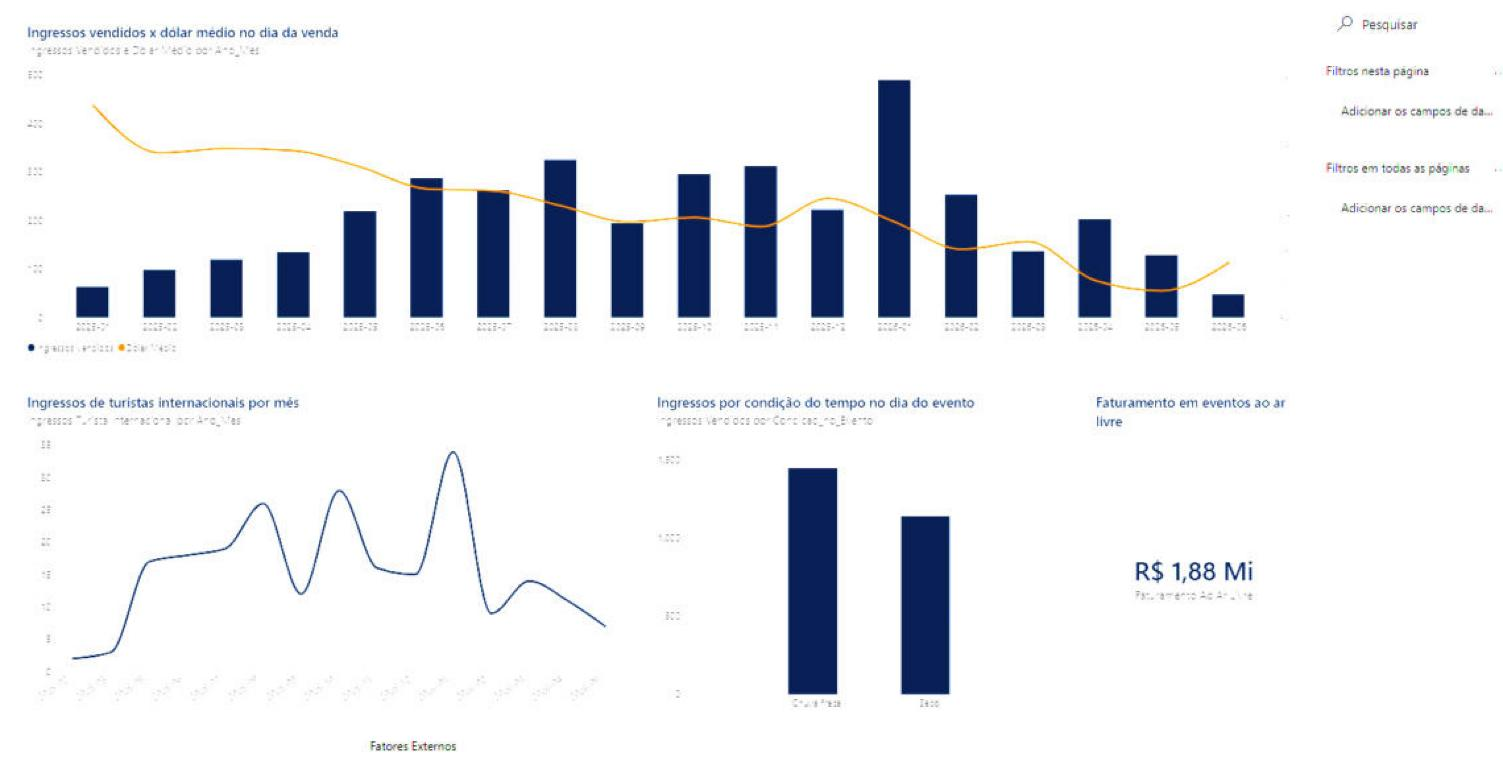

The dashboard page shown, as its layout file describes it:
{"tool":"powerbi","page":{"name":"Fatores Externos","canvas":[1920,1080],"ordinal":2},"visuals":[{"type":"lineClusteredColumnComboChart","title":"Ingressos vendidos x dólar médio no dia da venda","fields":{"Category":["Dim_Calendario.Ano_Mes"],"Y":["Fato_Vendas_Ingressos.Ingressos Vendidos"],"Y2":["Fato_Vendas_Ingressos.Dólar Médio"]},"box":[20,20,1880,520],"z":0},{"type":"lineChart","title":"Ingressos de turistas internacionais por mês","fields":{"Category":["Dim_Calendario.Ano_Mes"],"Y":["Fato_Vendas_Ingressos.Ingressos Turista Internacional"]},"box":[20,560,900,500],"z":0},{"type":"clusteredColumnChart","title":"Ingressos por condição do tempo no dia do evento","fields":{"Category":["Fato_Vendas_Ingressos.Condicao_no_Evento"],"Y":["Fato_Vendas_Ingressos.Ingressos Vendidos"]},"box":[940,560,620,500],"z":0},{"type":"card","title":"Faturamento em eventos ao ar livre","fields":{"Values":["Fato_Vendas_Ingressos.Faturamento Ao Ar Livre"]},"box":[1580,560,320,500],"z":0}]}

Visuals, with their boxes on the page's 1920x1080 design canvas (x1, y1, x2, y2). These are canvas units, not pixel positions in the 1503x765 screenshot, which may show the page scaled, cropped or inside an application window:
"Ingressos vendidos x dólar médio no dia da venda" lineClusteredColumnComboChart: x1=20, y1=20, x2=1900, y2=540
"Ingressos de turistas internacionais por mês" lineChart: x1=20, y1=560, x2=920, y2=1060
"Ingressos por condição do tempo no dia do evento" clusteredColumnChart: x1=940, y1=560, x2=1560, y2=1060
"Faturamento em eventos ao ar livre" card: x1=1580, y1=560, x2=1900, y2=1060
